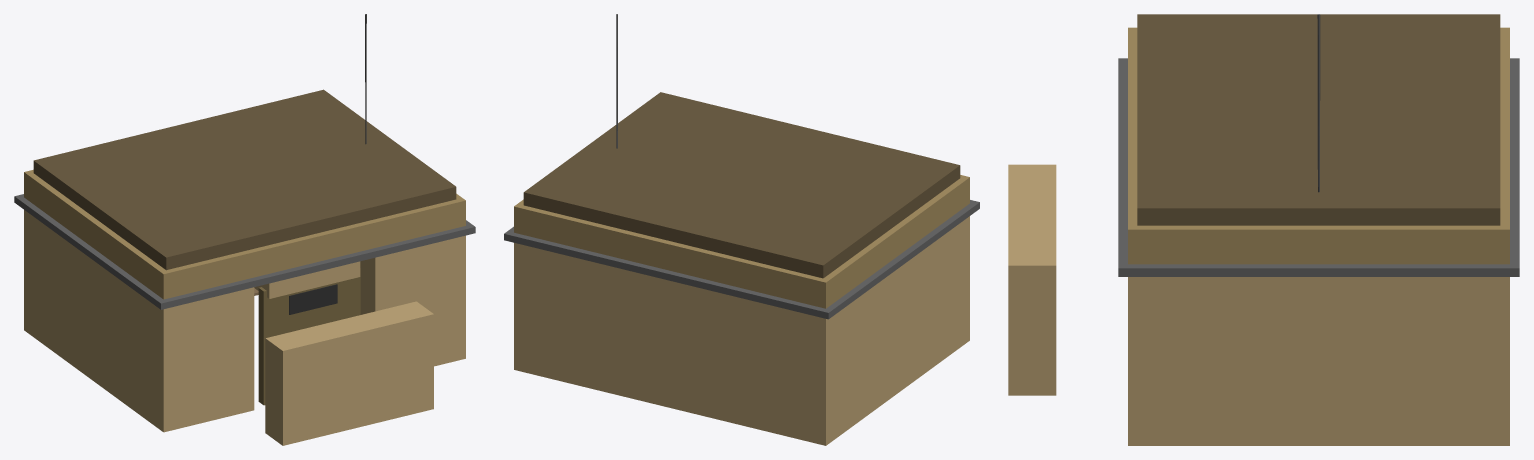
The model's file is toc-bunker.glb.
The picture shows the model from 3 angles, left to right: view 1: azimuth 30°, elevation 25°; view 2: azimuth 150°, elevation 25°; view 3: azimuth 270°, elevation 25°; orthographic projection. The views are drawn at different scales.
Parts seen in each view (by area): view 1: Mesh_RoofDirt, Mesh_BlastWall, Mesh_FrontWallLeft, Mesh_RoofSandbags, Mesh_LeftWall, Mesh_FrontWallRight, Mesh_RoofPSP, Mesh_DoorFrame, Mesh_BackWall, Mesh_DoorLintel, Mesh_Stencil; view 2: Mesh_RoofDirt, Mesh_BackWall, Mesh_RoofSandbags, Mesh_LeftWall, Mesh_RoofPSP, Mesh_FrontWallLeft; view 3: Mesh_RoofDirt, Mesh_RightWall, Mesh_RoofSandbags, Mesh_BlastWall, Mesh_RoofPSP, Mesh_FrontWallRight, Mesh_BackWall, Mesh_AntennaPipe.
Part boxes in pixels (left/top/right/bottom): Mesh_RoofDirt: left=33, top=89, right=456, bottom=270; Mesh_BlastWall: left=265, top=301, right=433, bottom=445; Mesh_FrontWallLeft: left=146, top=287, right=254, bottom=432; Mesh_RoofSandbags: left=24, top=169, right=465, bottom=299; Mesh_LeftWall: left=41, top=222, right=146, bottom=419; Mesh_FrontWallRight: left=360, top=235, right=465, bottom=366; Mesh_RoofPSP: left=14, top=194, right=475, bottom=309; Mesh_DoorFrame: left=258, top=268, right=360, bottom=405; Mesh_BackWall: left=24, top=210, right=41, bottom=342; Mesh_DoorLintel: left=254, top=261, right=360, bottom=298; Mesh_Stencil: left=289, top=284, right=337, bottom=314; Mesh_RoofDirt: left=523, top=92, right=960, bottom=278; Mesh_BackWall: left=514, top=243, right=843, bottom=445; Mesh_RoofSandbags: left=514, top=175, right=969, bottom=308; Mesh_LeftWall: left=844, top=229, right=951, bottom=432; Mesh_RoofPSP: left=504, top=200, right=979, bottom=319; Mesh_FrontWallLeft: left=952, top=216, right=969, bottom=353; Mesh_RoofDirt: left=1137, top=14, right=1500, bottom=225; Mesh_RightWall: left=1175, top=277, right=1462, bottom=445; Mesh_RoofSandbags: left=1128, top=27, right=1509, bottom=264; Mesh_BlastWall: left=1008, top=164, right=1056, bottom=395; Mesh_RoofPSP: left=1118, top=58, right=1519, bottom=276; Mesh_FrontWallRight: left=1128, top=277, right=1175, bottom=445; Mesh_BackWall: left=1462, top=277, right=1509, bottom=445; Mesh_AntennaPipe: left=1317, top=14, right=1320, bottom=192.
Size of the model in its own units: 5.2 by 4.75 by 5.35.
